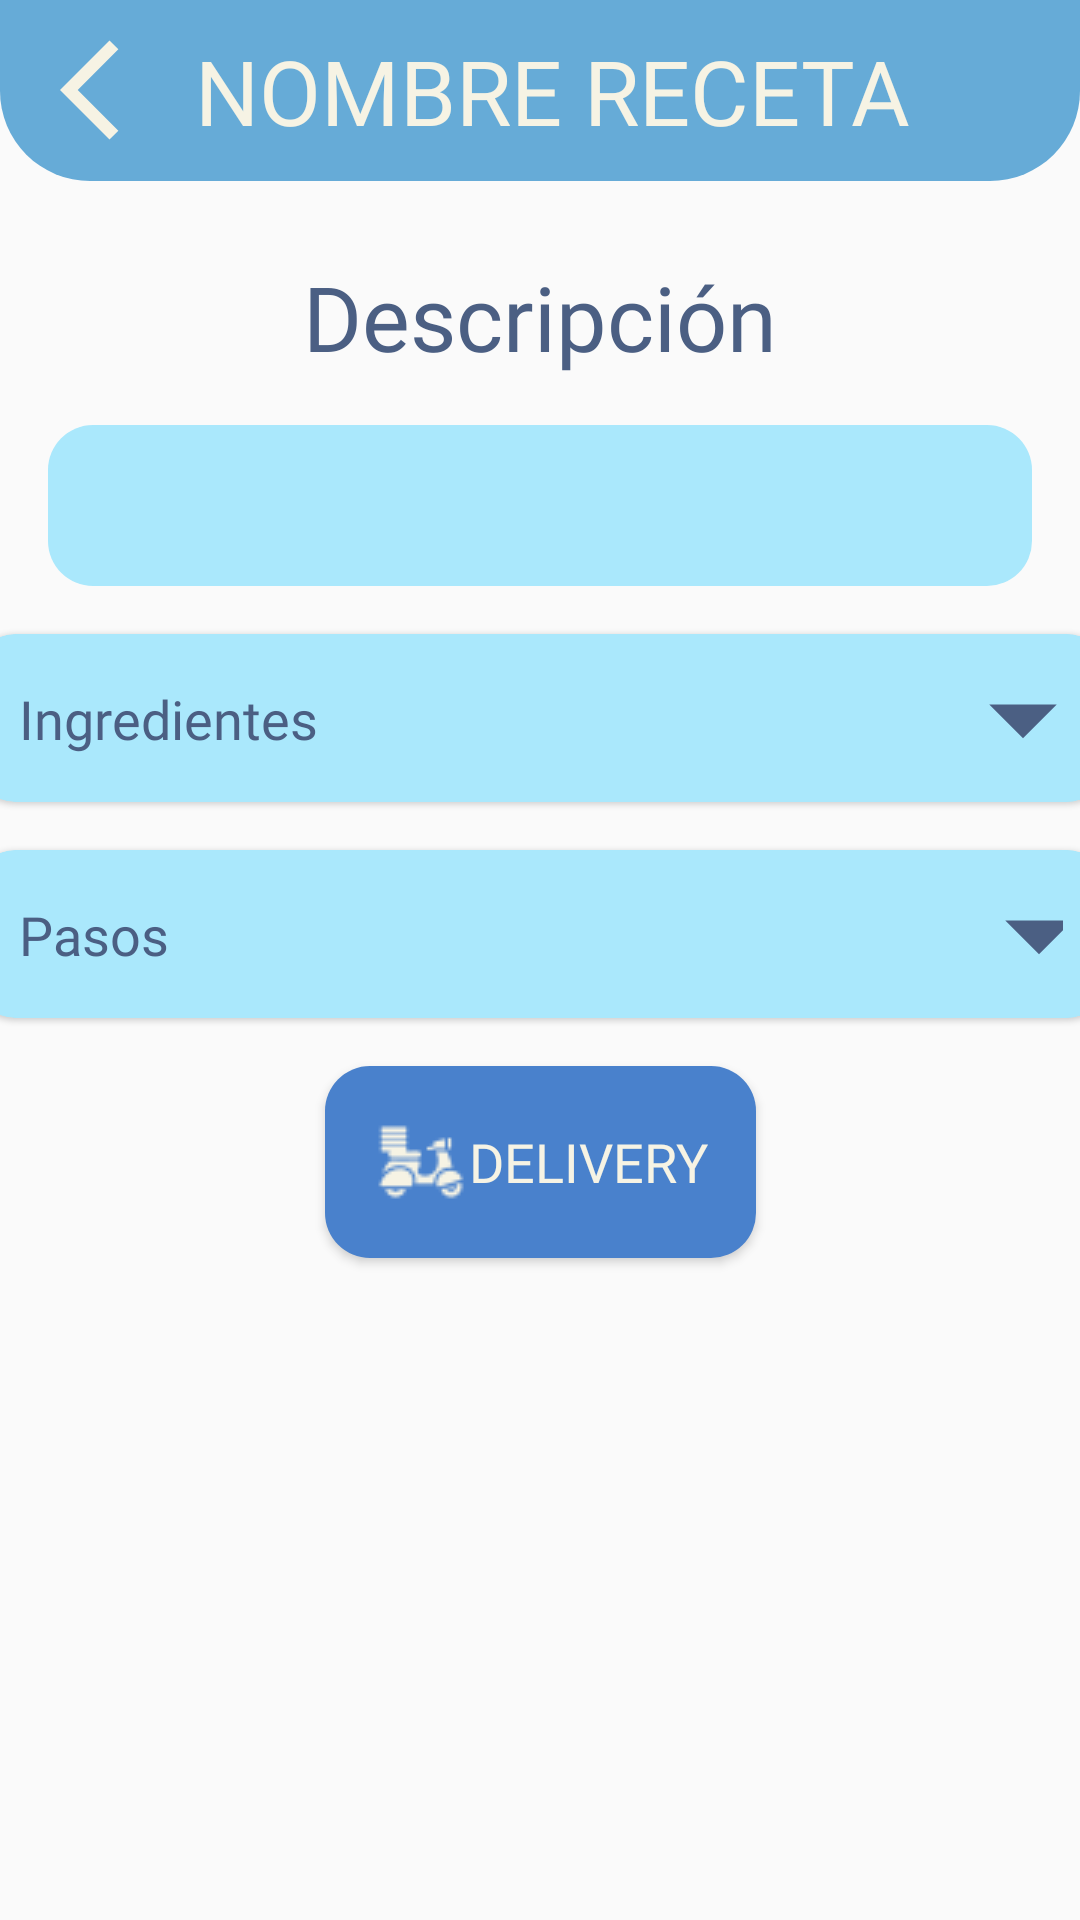

Icon bounding boxes for this 1080px×1920px phone screenshot, format rect(x1, y1, x2, y2):
back arrow: rect(60, 40, 118, 140)
